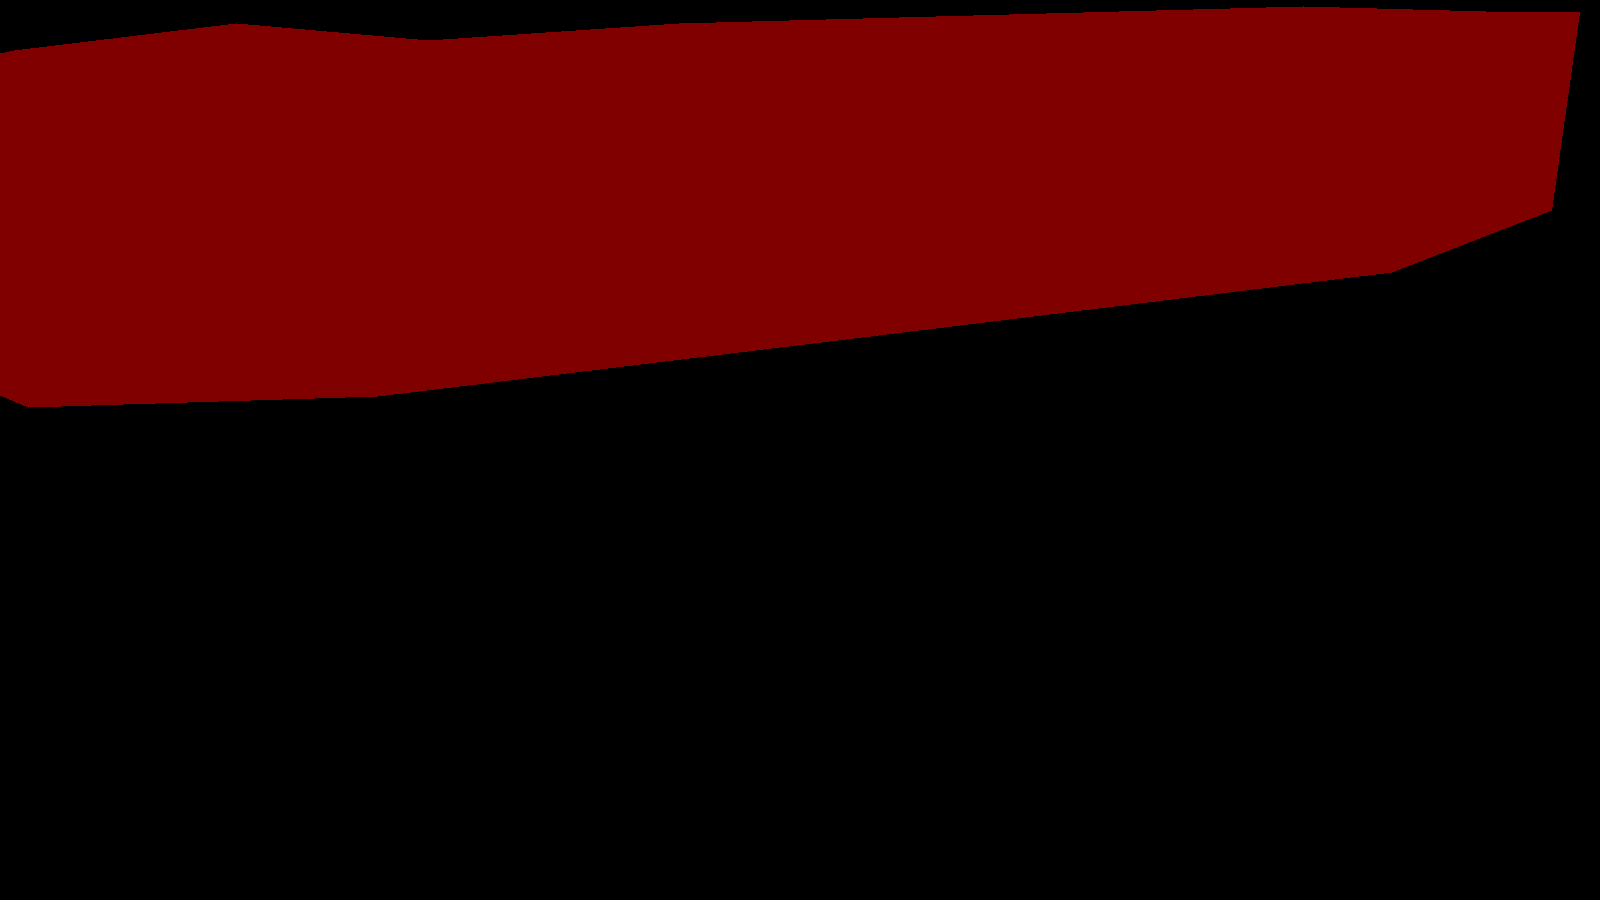fire: (0, 5, 1579, 407)
